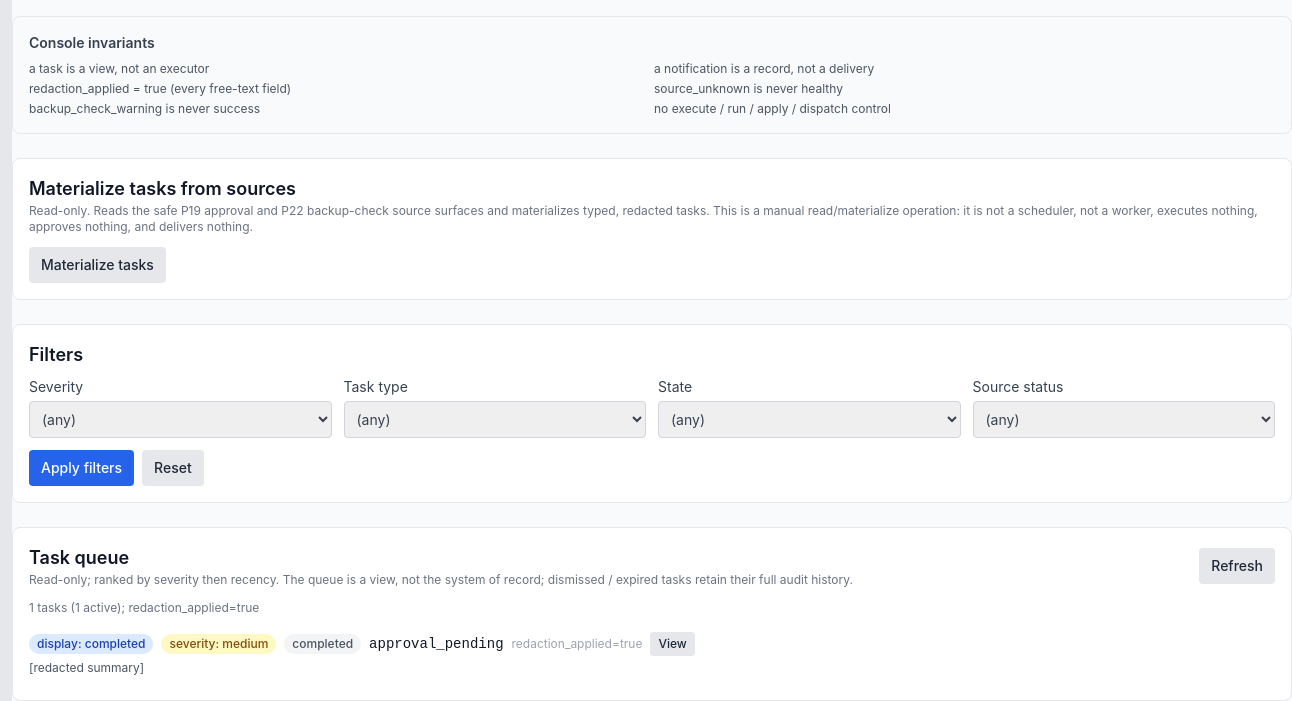
it: PlatformOperatorTasksPage › a terminal task shows no transition controls
(page scrolled)
Expected: the list item with test id "ot-queue-item" is shown, [29, 632, 695, 675]
Click the button with test id "ot-view-btn": point(673, 644) [650, 632, 695, 656]
(page scrolled)
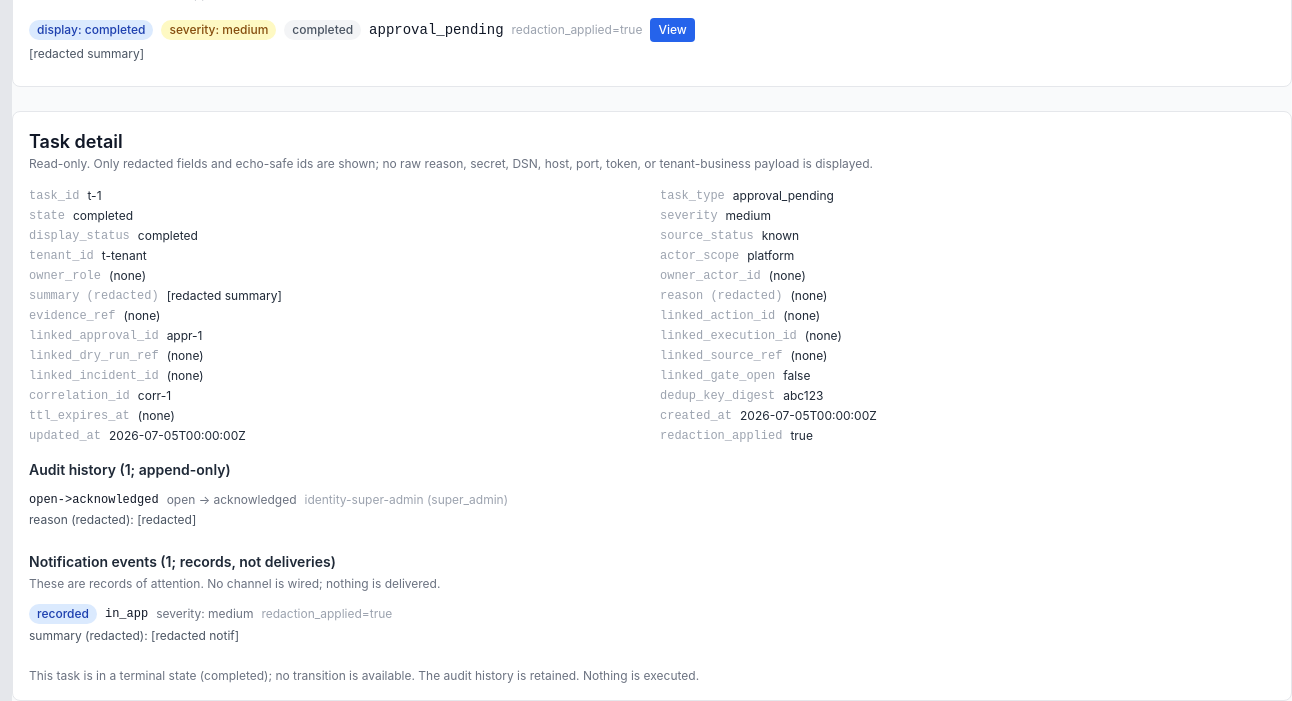
Result: the element with test id "ot-detail" is shown
Result: the text with test id "ot-terminal-note" is shown at [29, 668, 699, 683]
